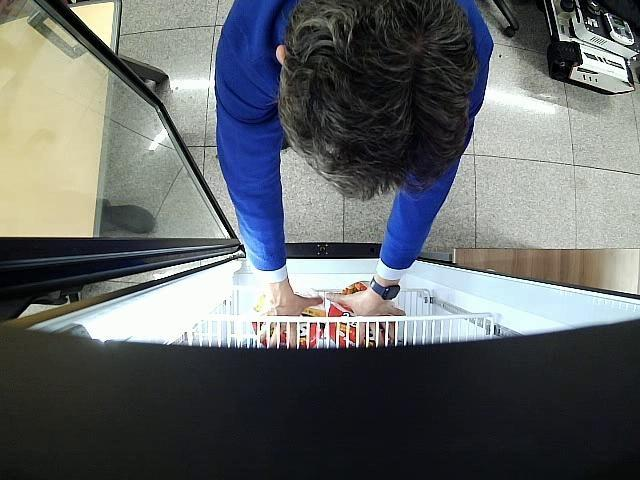10_wangTtukkeong: (252, 288, 324, 348), (328, 278, 391, 346)
